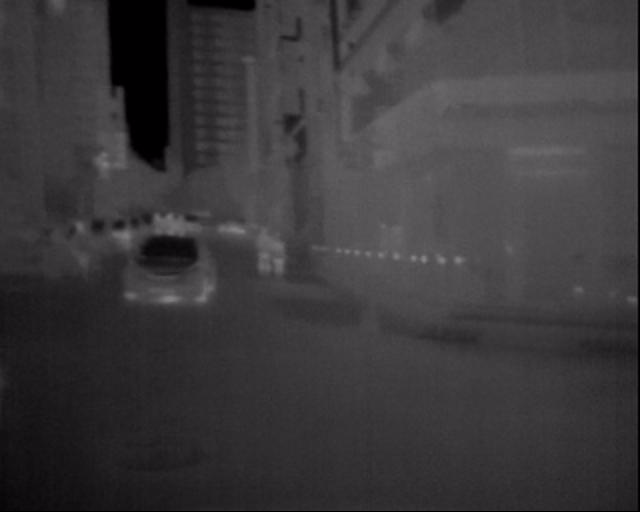person: (44, 219, 81, 293), (133, 203, 188, 249), (250, 212, 276, 290), (238, 212, 261, 291)
